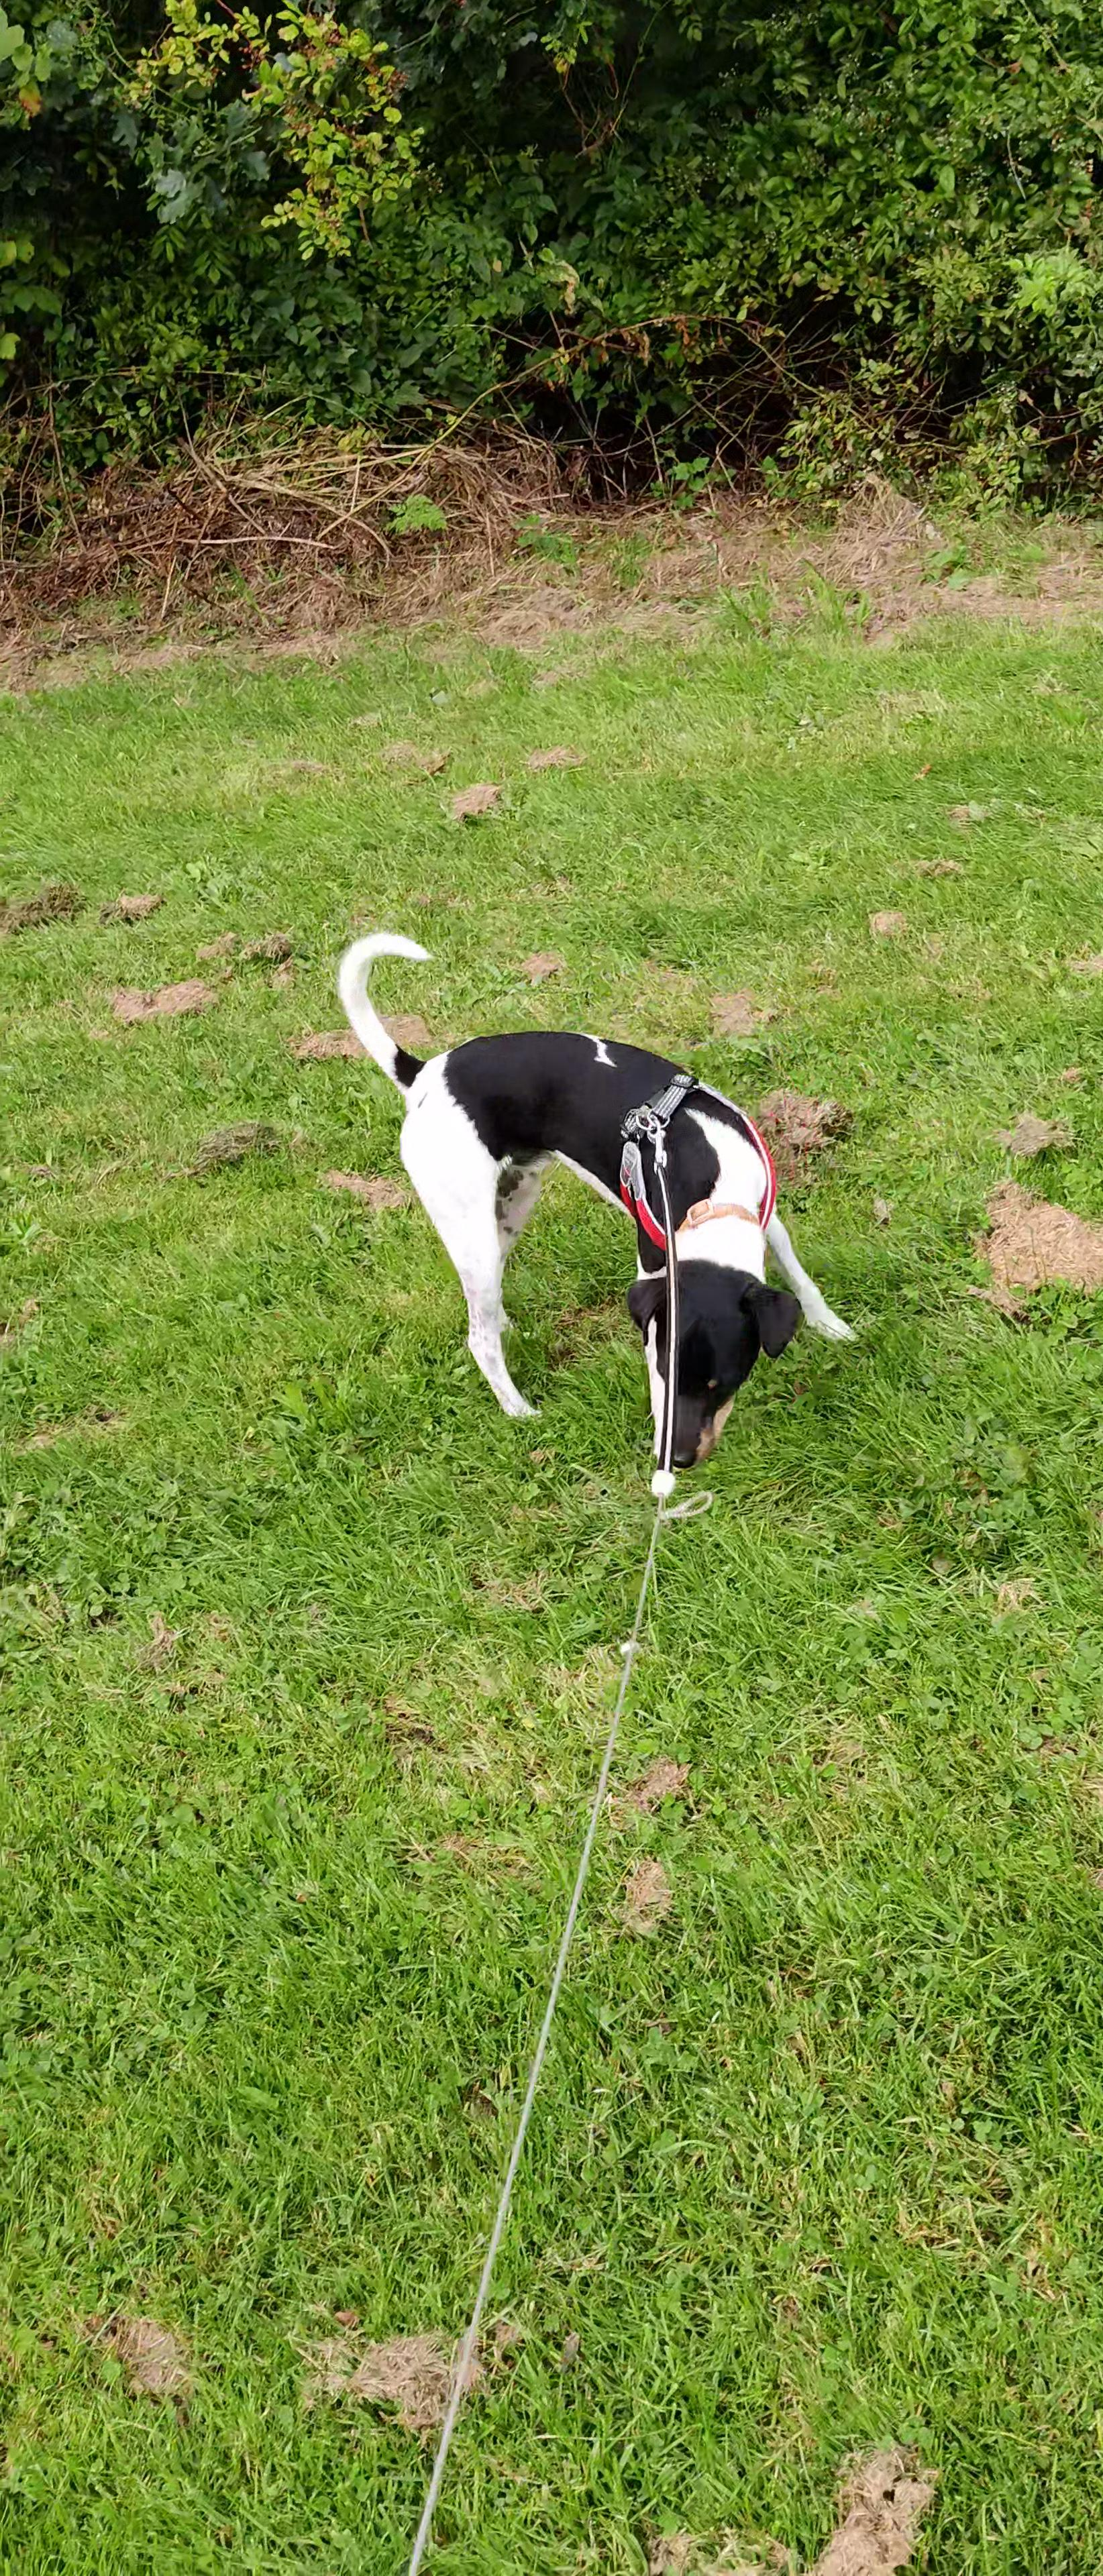Dog: (307, 899, 876, 1505)
